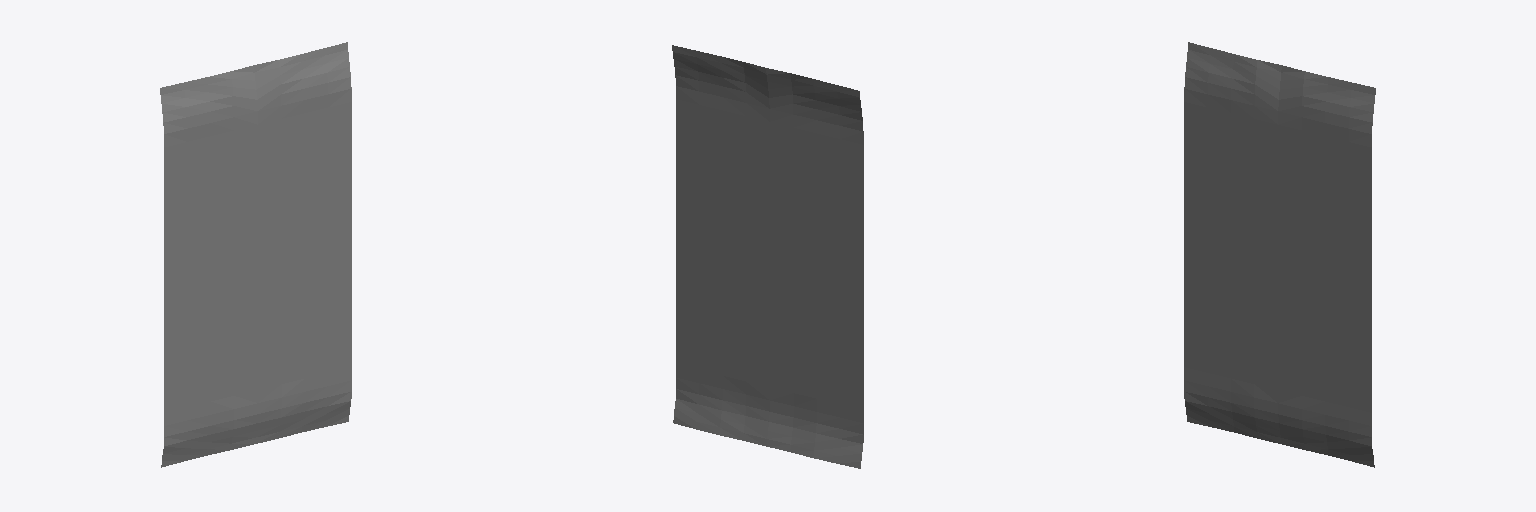
The model's file is Road_Plane_Mainroad.obj.
3 renders of one model, left to right at view 1: azimuth 30°, elevation 25°; view 2: azimuth 150°, elevation 25°; view 3: azimuth 330°, elevation 25°, orthographic.
Parts seen in each view (by area): view 1: Object001, Object002; view 2: Object001; view 3: Object001, Object002.
Part boxes in pixels (x1,y1,x2,y2): Object001: (160,42,351,467); Object002: (164,231,351,282); Object001: (672,45,863,468); Object001: (1184,42,1375,467); Object002: (1184,231,1371,282).
Bounding box in the file's own units: 155 × 300 × 5.86.